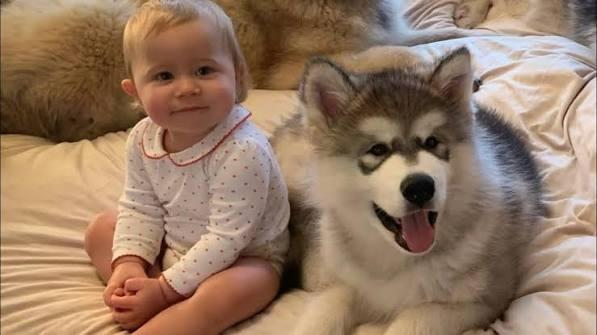adult_dog: (223, 47, 554, 335)
non-dog: (81, 1, 292, 332)
